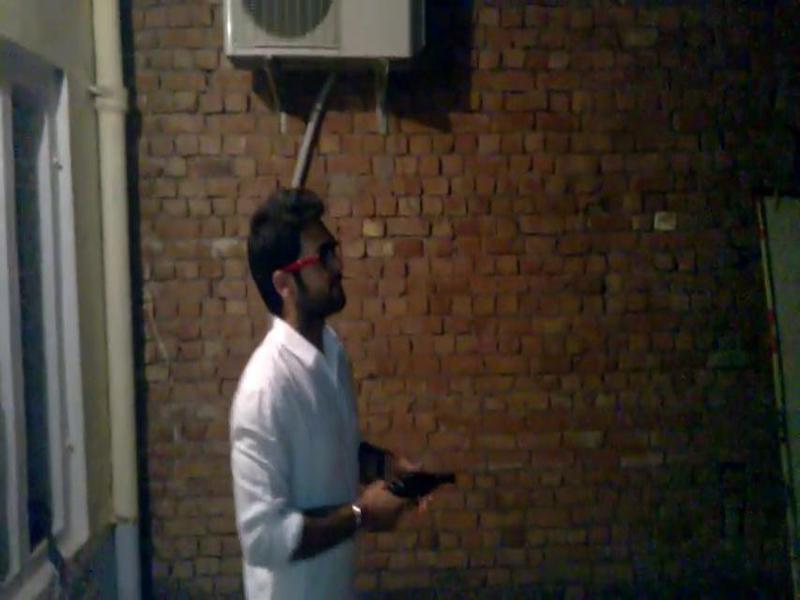Revolver: (353, 458, 476, 540)
